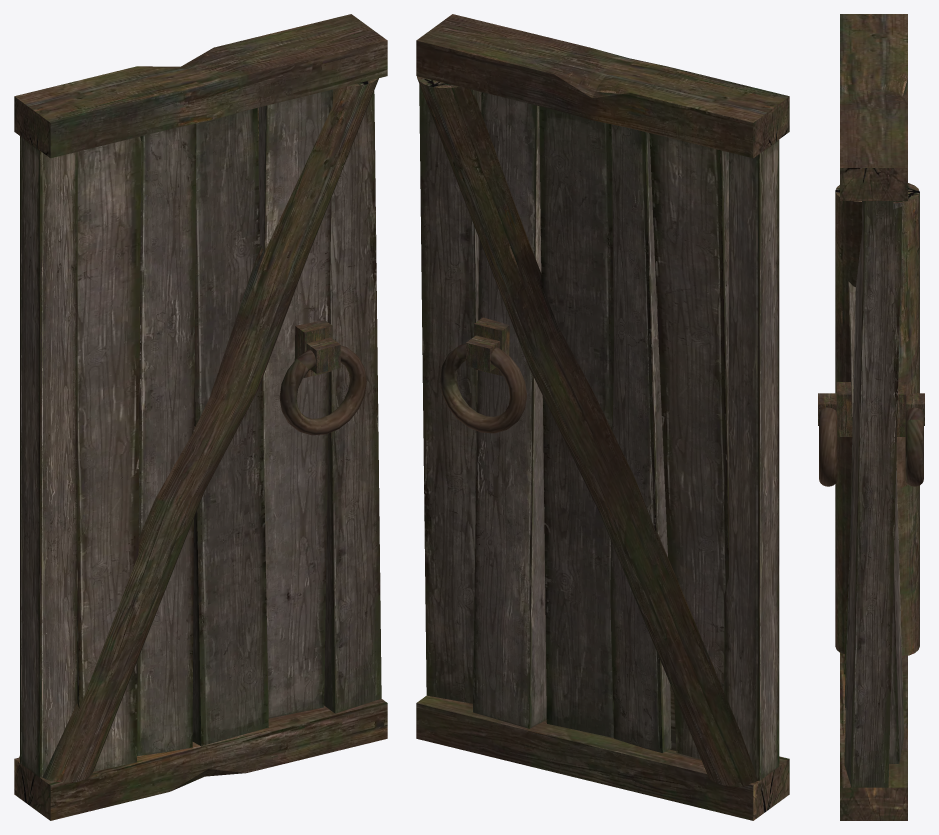
3 renders of one model, left to right at view 1: azimuth 30°, elevation 25°; view 2: azimuth 150°, elevation 25°; view 3: azimuth 270°, elevation 25°, orthographic. The views are drawn at different scales.
Parts seen in each view (by area): view 1: SM_BB_T1_Door_LOD0; view 2: SM_BB_T1_Door_LOD0; view 3: SM_BB_T1_Door_LOD0.
Boxes of the visible parts, box(x1,y1,x2,y2) form: SM_BB_T1_Door_LOD0: box(14, 14, 387, 820); SM_BB_T1_Door_LOD0: box(416, 14, 789, 820); SM_BB_T1_Door_LOD0: box(818, 14, 924, 820).
Bounding box in the file's own units: 1.29 × 2.52 × 0.3733.
Materials: 2 (2 with a texture image).
